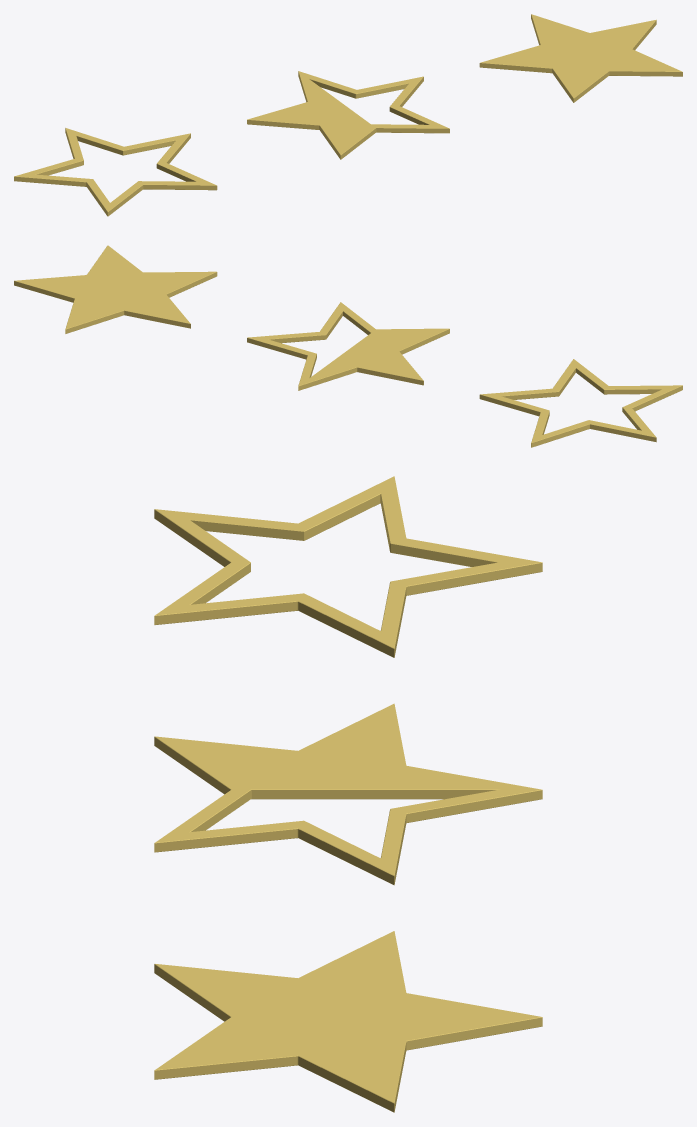
The model's file is Iconsv2.glb.
3 views of the same model, one above another, from view 1: azimuth 30°, elevation 25°; view 2: azimuth 150°, elevation 25°; view 3: azimuth 270°, elevation 25° (orthographic). The views are drawn at different scales.
Parts seen in each view (by area): view 1: FullStar, HalfStar, EmptyStar; view 2: FullStar, HalfStar, EmptyStar; view 3: FullStar, HalfStar, EmptyStar.
Boxes of the visible parts, x1=… form: FullStar: x1=479, y1=14, x2=682, y2=102; HalfStar: x1=247, y1=71, x2=449, y2=159; EmptyStar: x1=14, y1=128, x2=217, y2=216; FullStar: x1=14, y1=245, x2=217, y2=333; HalfStar: x1=247, y1=302, x2=449, y2=390; EmptyStar: x1=479, y1=359, x2=682, y2=447; FullStar: x1=154, y1=931, x2=542, y2=1112; HalfStar: x1=154, y1=703, x2=542, y2=885; EmptyStar: x1=154, y1=476, x2=542, y2=657.
Bounding box in the file's own units: 6.9 × 0.05 × 1.81.
Materials: 2 (2 with a texture image).
